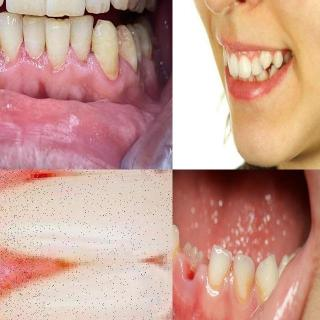Gum Swelling: (0, 44, 137, 91), (172, 252, 206, 305)
maligned: (95, 18, 121, 81), (43, 17, 73, 69), (178, 238, 207, 283), (260, 51, 272, 70), (223, 48, 229, 68)
plaque: (97, 50, 119, 92)
stains: (246, 275, 276, 311), (231, 268, 257, 304), (207, 274, 229, 300), (172, 242, 178, 270)
